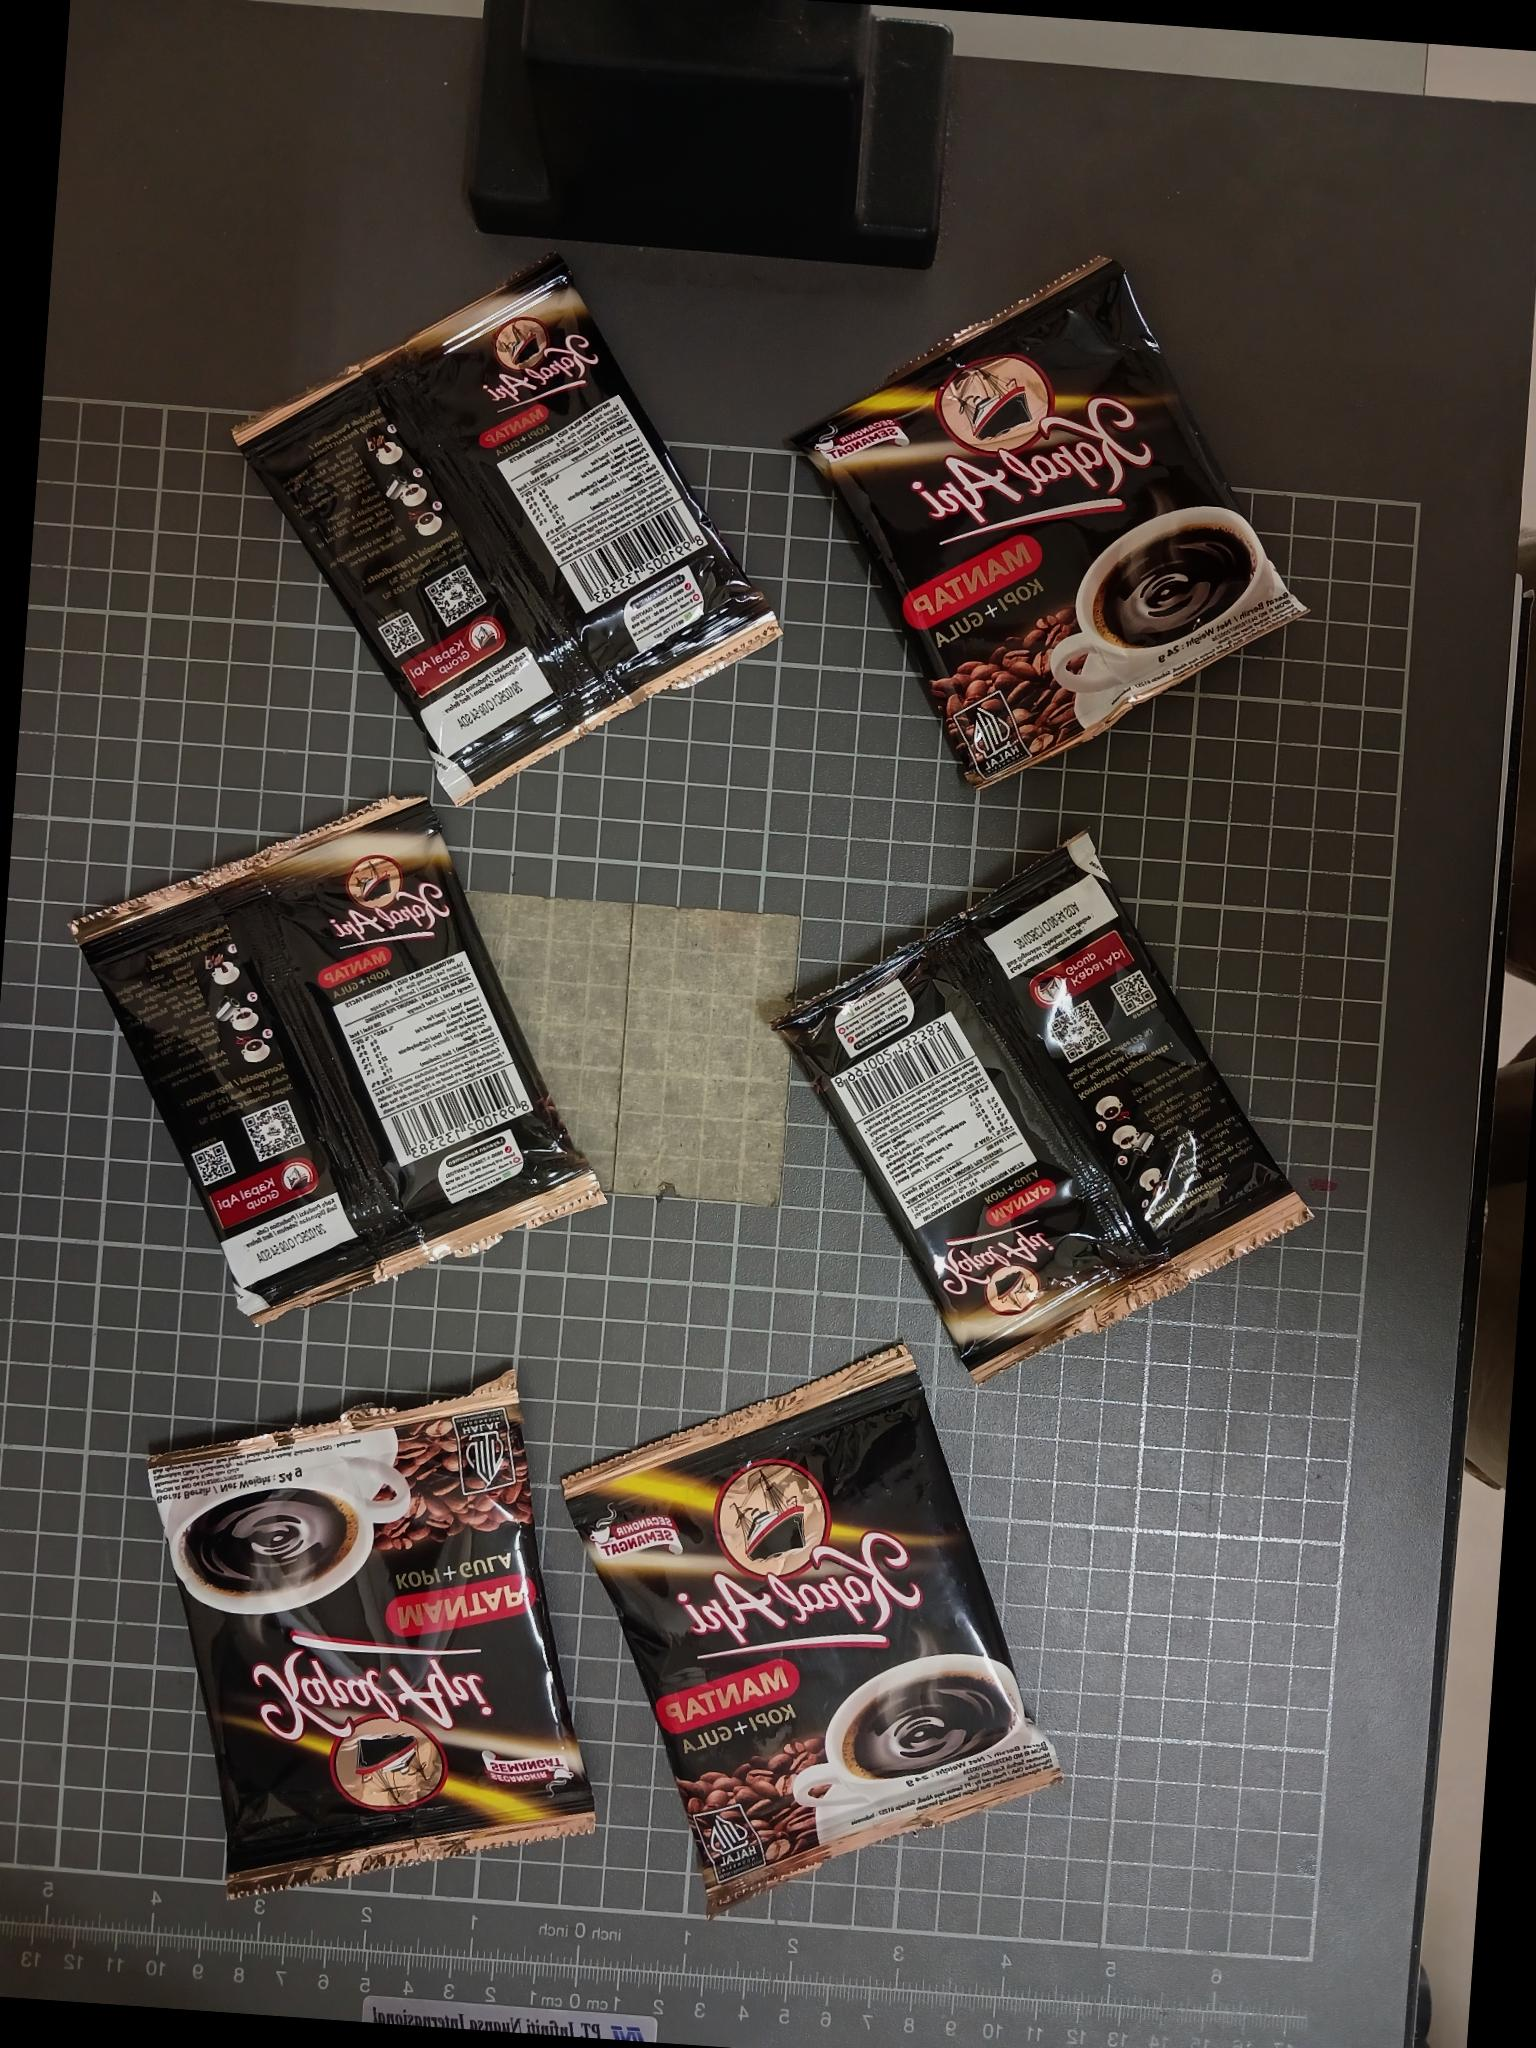back: (226, 248, 784, 808), (766, 826, 1317, 1390), (65, 787, 605, 1334)
front: (552, 1334, 1070, 1914), (784, 250, 1310, 793), (140, 1376, 602, 1903)
